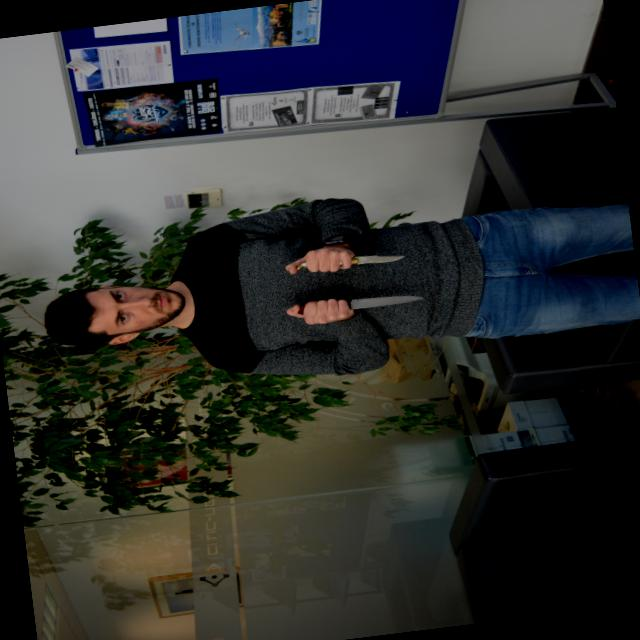knife: (280, 282, 430, 320), (280, 246, 412, 278)
